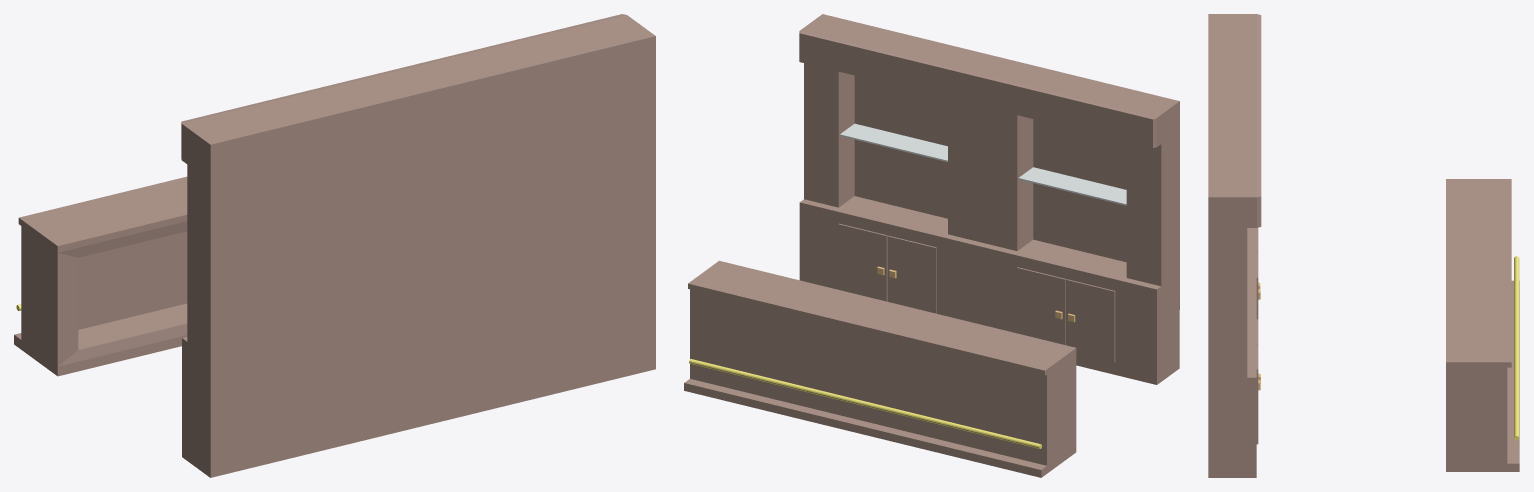
The model's file is bar.glb.
3 views of the same model, side by side, from view 1: azimuth 30°, elevation 25°; view 2: azimuth 150°, elevation 25°; view 3: azimuth 270°, elevation 25° (orthographic). The views are drawn at different scales.
Parts seen in each view (by area): view 1: group7785952, group1345833870, group761810920, group1428255239, group17861840, group27870691, group470760230; view 2: group761810920, group134078654, group470760230, group7785952, group1345833870, group587117627, group1428255239, group17861840, group27870691, group1230848087, group1341568179, group8256022 (+7 smaller); view 3: group134078654, group761810920, group17861840, group587117627, group1341568179, group1428255239, group1345833870, group1072627430, group470760230, group7785952.
Part boxes in pixels (bbox=[...]): group7785952: bbox=[207, 88, 433, 477]; group1345833870: bbox=[430, 33, 655, 423]; group761810920: bbox=[14, 176, 187, 376]; group1428255239: bbox=[181, 68, 429, 178]; group17861840: bbox=[402, 14, 652, 87]; group27870691: bbox=[187, 164, 207, 355]; group470760230: bbox=[182, 337, 207, 475]; group761810920: bbox=[862, 304, 1076, 477]; group134078654: bbox=[684, 260, 897, 434]; group470760230: bbox=[978, 239, 1177, 384]; group7785952: bbox=[999, 57, 1179, 369]; group1345833870: bbox=[820, 14, 1000, 218]; group587117627: bbox=[799, 196, 982, 323]; group1428255239: bbox=[975, 59, 1177, 148]; group17861840: bbox=[799, 16, 998, 104]; group27870691: bbox=[1126, 133, 1177, 286]; group1230848087: bbox=[982, 107, 1033, 250]; group1341568179: bbox=[804, 63, 854, 207]; group8256022: bbox=[948, 98, 982, 242]; group134078654: bbox=[1446, 270, 1519, 471]; group761810920: bbox=[1446, 179, 1519, 371]; group17861840: bbox=[1214, 105, 1261, 227]; group587117627: bbox=[1213, 286, 1256, 477]; group1341568179: bbox=[1214, 228, 1247, 377]; group1428255239: bbox=[1213, 14, 1261, 105]; group1345833870: bbox=[1208, 105, 1213, 477]; group1072627430: bbox=[1514, 256, 1519, 440]; group470760230: bbox=[1247, 228, 1256, 285]; group7785952: bbox=[1208, 14, 1213, 105].
Size of the model in its own units: 7.31 by 5.09 by 5.11.
